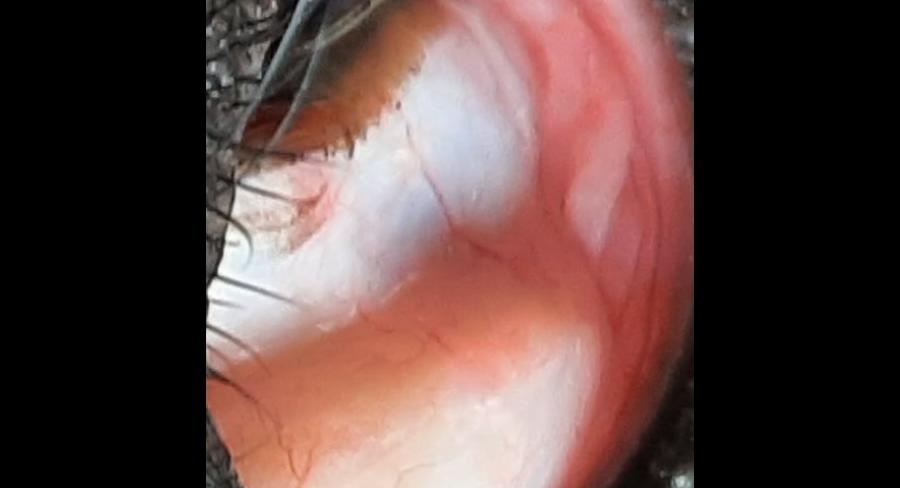eye_membrane: (208, 0, 691, 488)
